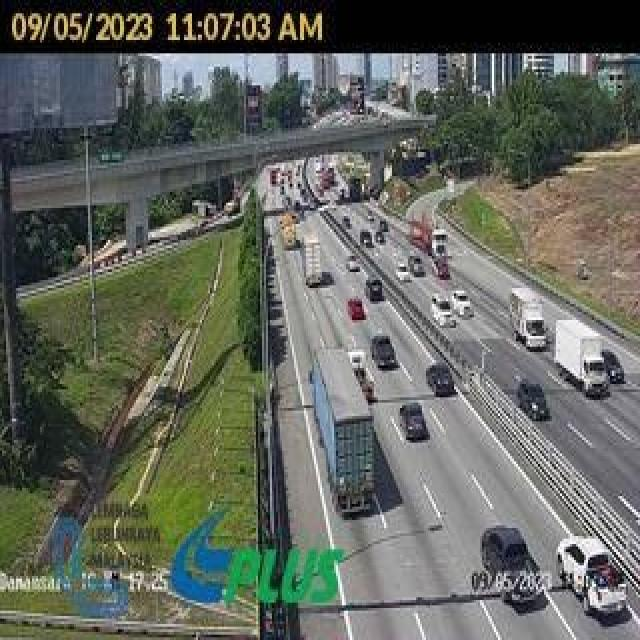Car: (518, 380, 551, 423), (400, 402, 430, 442), (425, 362, 455, 397), (600, 349, 625, 386), (432, 292, 456, 330), (452, 288, 473, 316), (364, 274, 384, 301), (348, 298, 365, 320), (394, 262, 410, 284), (410, 257, 425, 276), (345, 253, 358, 271), (358, 230, 372, 246), (374, 231, 384, 244)
Truck: (308, 346, 377, 519), (558, 537, 628, 620), (481, 523, 544, 608), (553, 314, 610, 402), (511, 286, 548, 352), (409, 210, 446, 258), (348, 350, 377, 403), (302, 232, 322, 288), (370, 333, 397, 369), (277, 211, 297, 249)
